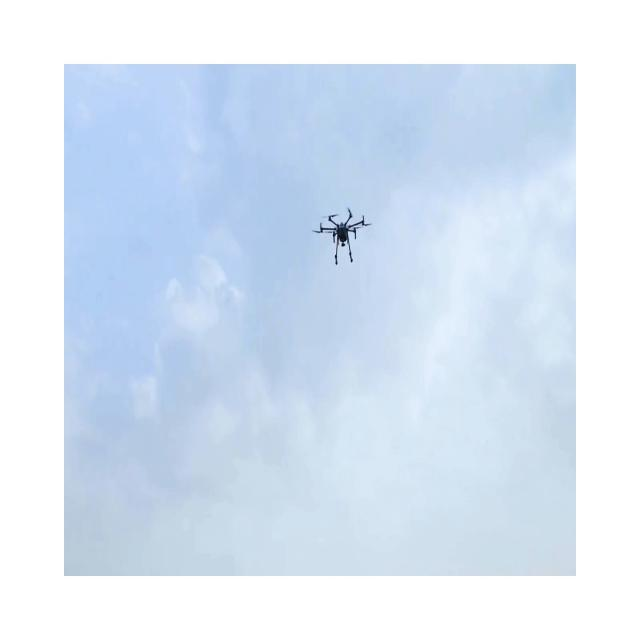drone: (312, 207, 372, 265)
